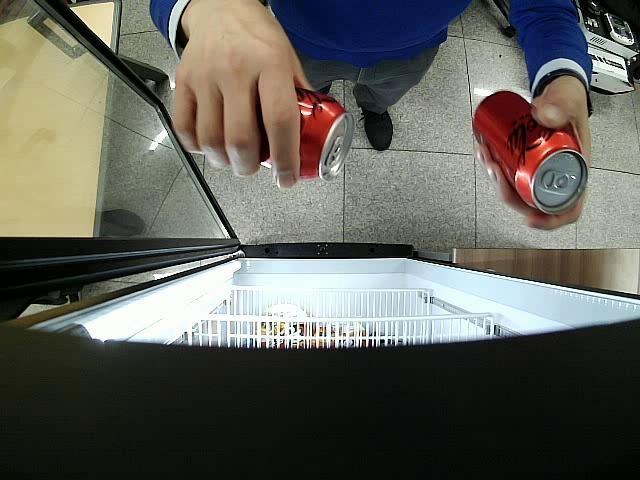11_cocaColaZero: (473, 90, 588, 216), (259, 87, 354, 182)
